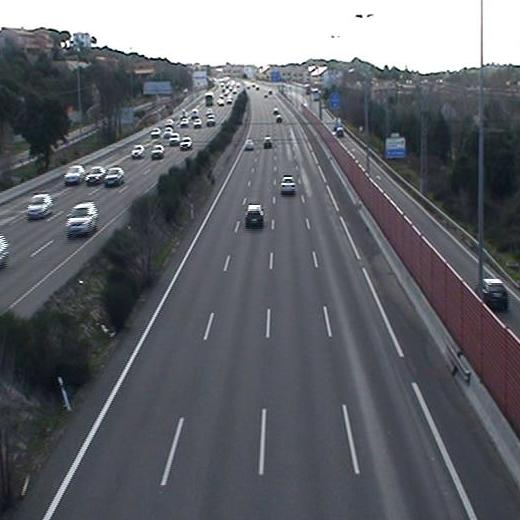car: (245, 204, 265, 227), (281, 175, 295, 192), (244, 137, 254, 150), (263, 136, 272, 150)
